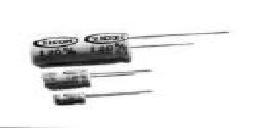Electrolytic-capacitor: (29, 30, 237, 63), (39, 67, 157, 87), (53, 90, 157, 106)
